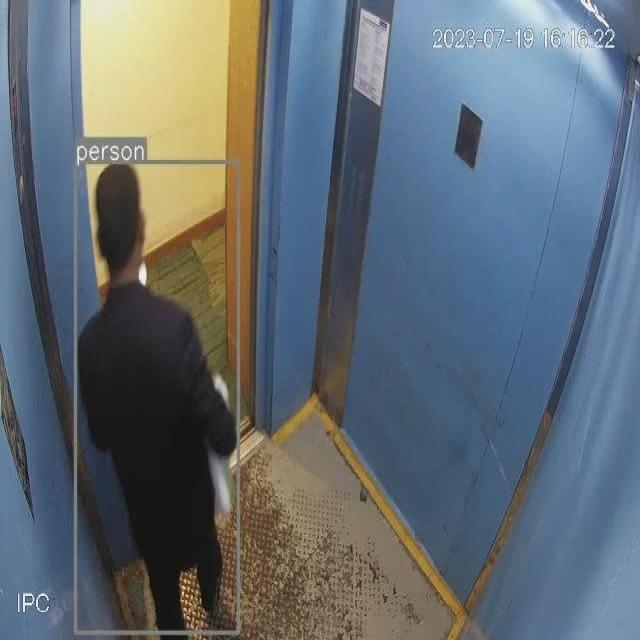person: (78, 165, 237, 632)
